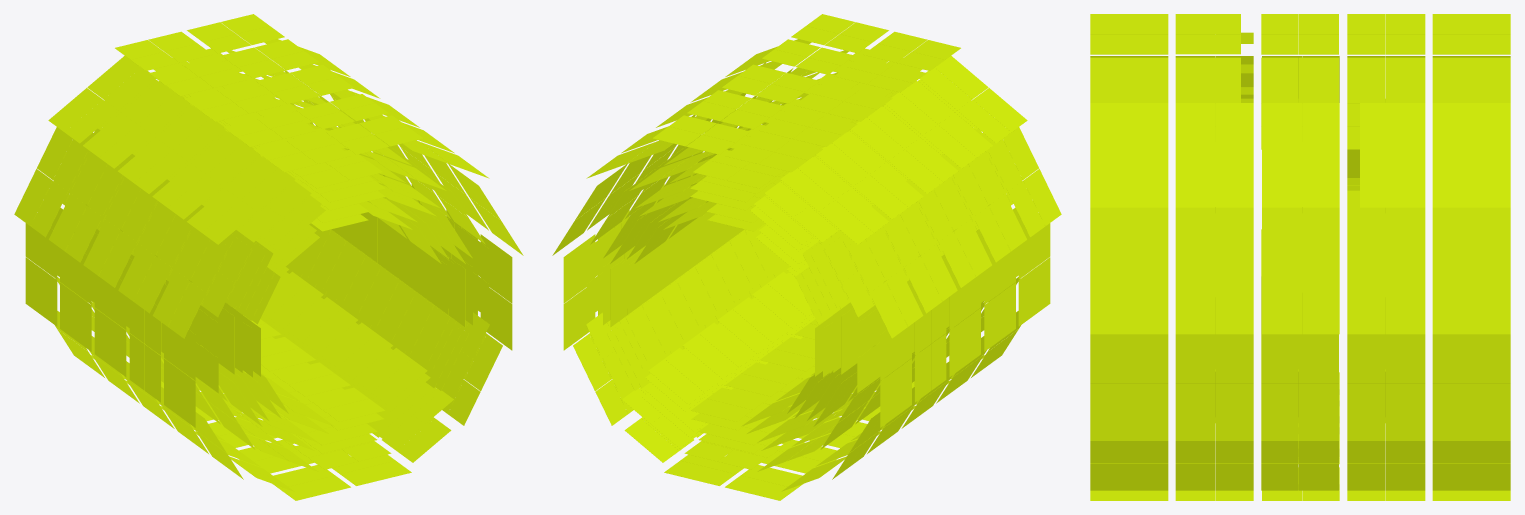
Rendered from RPCBarrel3D_V1.glb.
3 views of the same model, side by side, from view 1: azimuth 30°, elevation 25°; view 2: azimuth 150°, elevation 25°; view 3: azimuth 270°, elevation 25° (orthographic). The views are drawn at different scales.
Parts seen in each view (by area): view 1: RPCBarrel3D_V1; view 2: RPCBarrel3D_V1; view 3: RPCBarrel3D_V1.
Boxes of the visible parts, x1,y1,x2,y2 form: RPCBarrel3D_V1: [14, 14, 523, 500]; RPCBarrel3D_V1: [552, 14, 1061, 500]; RPCBarrel3D_V1: [1090, 14, 1510, 500].
Bounding box in the file's own units: 15.11 × 14.1 × 13.09.
